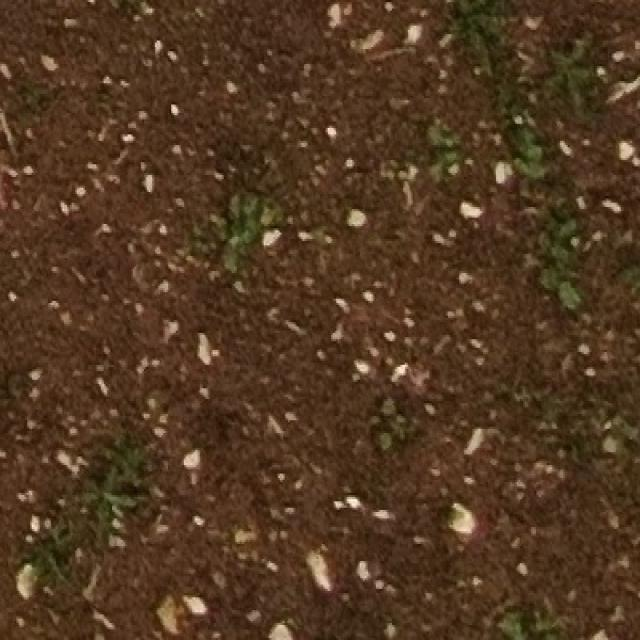cirse: (77, 477, 136, 548), (564, 36, 614, 119), (427, 1, 490, 66), (425, 1, 485, 69), (538, 40, 588, 121), (526, 39, 575, 121), (75, 480, 134, 548), (450, 0, 510, 65), (70, 455, 129, 520), (26, 512, 78, 576), (24, 553, 75, 615), (24, 554, 75, 616)
